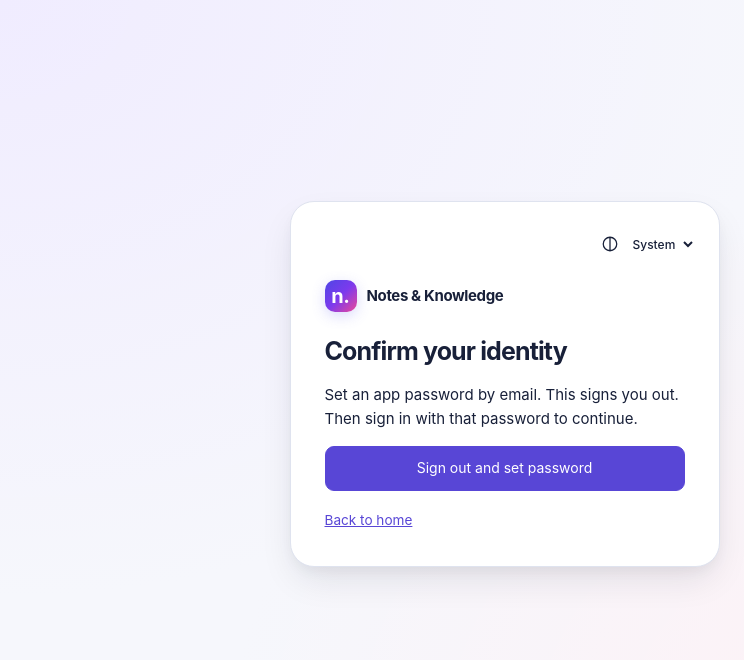
Scenario: authentication browser journey › takes a Google-only account from recent authentication to signed-out first-password setup
Click the button "Sign out and set password".
click(504, 468)  # box [324,446,684,491]
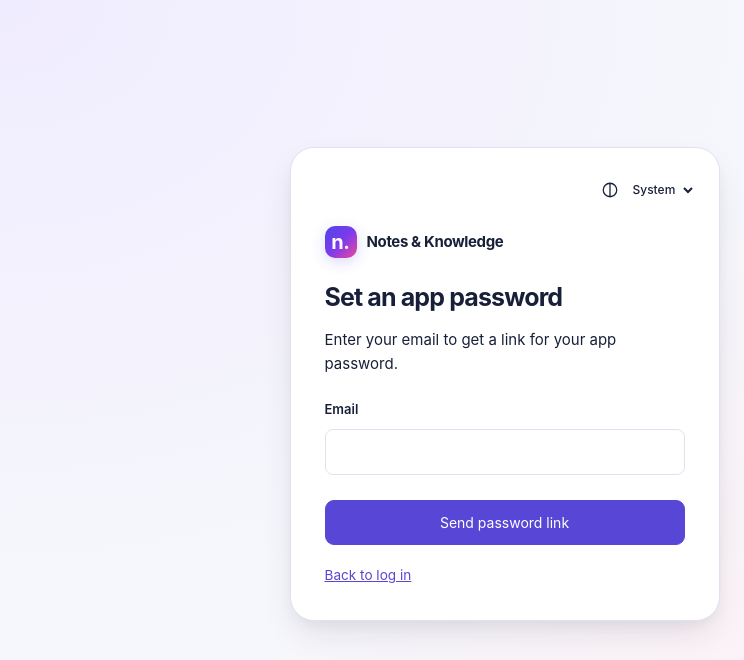
Expected: the heading "Set an app password" is shown, [324,282,562,312]
Type "person@example.test" into the field labelled "Email".
click(504, 452); type("person@example.test")  # box [324,429,684,475]
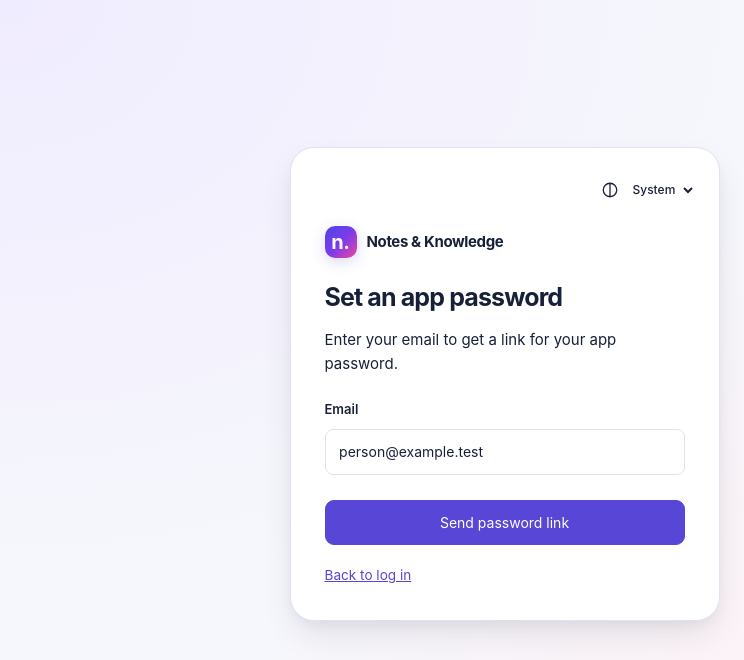
Click the button "Send password link".
click(504, 523)  # box [324,500,684,545]
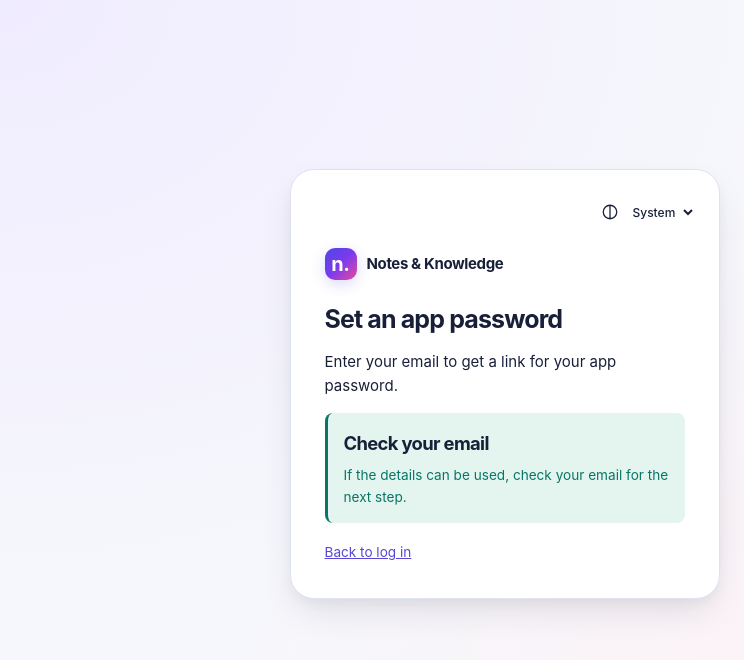
Expected: the text "If the details can be used" is shown, [344,467,668,505]
